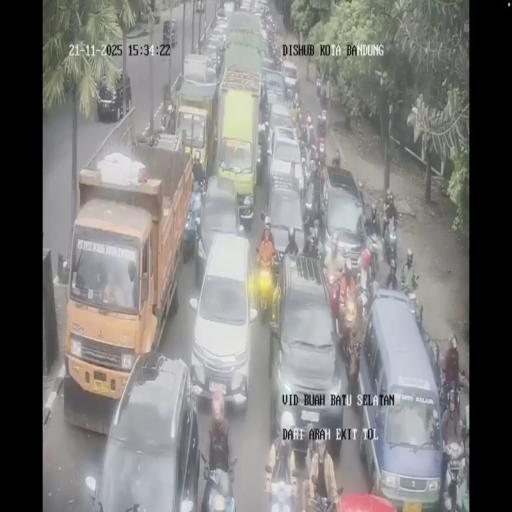car: (356, 291, 442, 505), (91, 350, 200, 508), (268, 253, 344, 452), (194, 173, 244, 286), (321, 168, 370, 273), (263, 182, 306, 270), (96, 70, 132, 122), (265, 100, 296, 158), (203, 41, 224, 75), (282, 59, 298, 100), (162, 20, 178, 45), (261, 53, 275, 73), (222, 0, 236, 16)
motorcycle: (441, 439, 468, 510), (255, 254, 279, 322), (302, 174, 326, 238), (266, 472, 300, 512), (338, 294, 360, 346), (440, 371, 463, 418), (400, 274, 420, 326), (423, 329, 441, 386), (382, 216, 398, 266), (367, 229, 382, 279), (302, 120, 314, 148), (317, 135, 326, 167), (316, 77, 322, 97)
truck: (173, 65, 218, 179), (194, 0, 204, 12)
